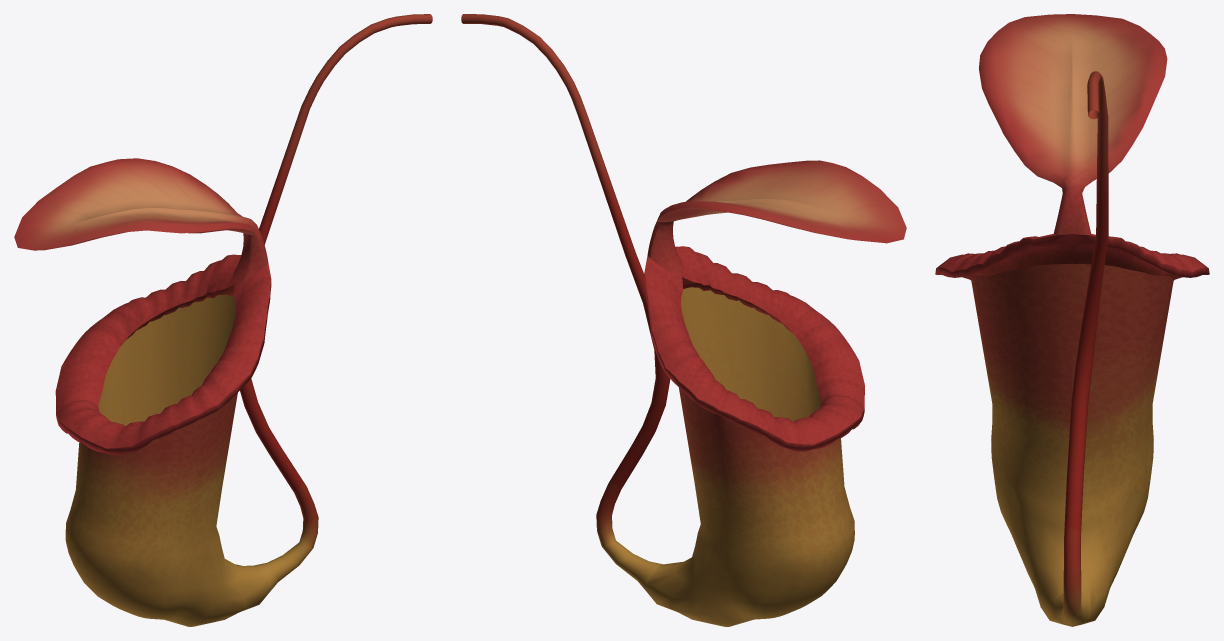
Rendered from Nepenthes-peltata.glb.
3 views of the same model, side by side, from view 1: azimuth 30°, elevation 25°; view 2: azimuth 150°, elevation 25°; view 3: azimuth 270°, elevation 25° (orthographic). The views are drawn at different scales.
Parts seen in each view (by area): view 1: lp_07 - Default_0; view 2: lp_07 - Default_0; view 3: lp_07 - Default_0.
Boxes of the visible parts, x1,y1,x2,y2 form: lp_07 - Default_0: [14, 14, 432, 626]; lp_07 - Default_0: [461, 14, 906, 626]; lp_07 - Default_0: [935, 14, 1209, 626].
Bounding box in the file's own units: 69.24 × 85.89 × 33.38.
1 material, 1 textured.
